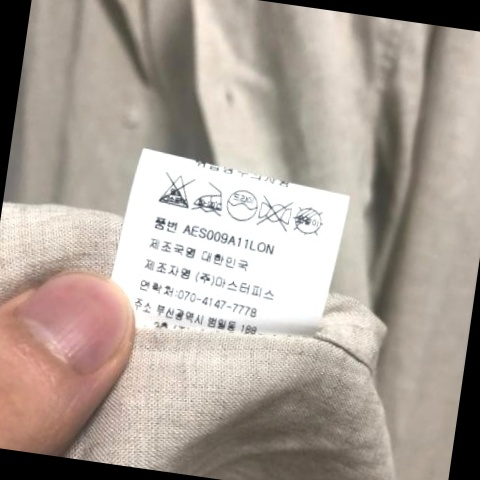DN_bleach: (159, 172, 198, 210)
DN_wring: (257, 194, 297, 233)
dry_clean: (226, 185, 260, 225)
iron_low: (193, 179, 229, 217)
line_dry_in_shade: (293, 205, 329, 241)
